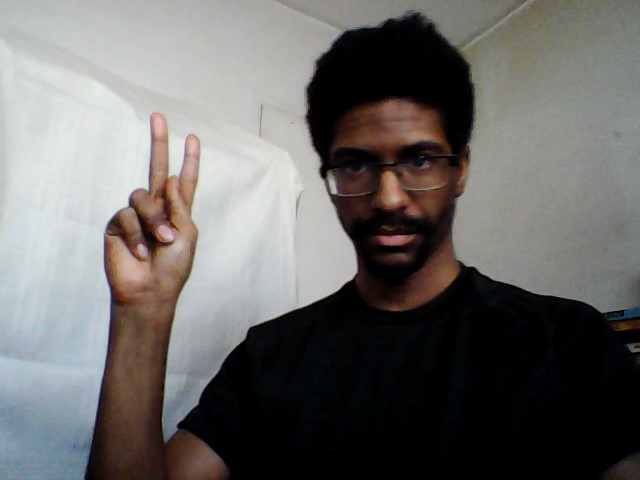k: (97, 108, 202, 302)
